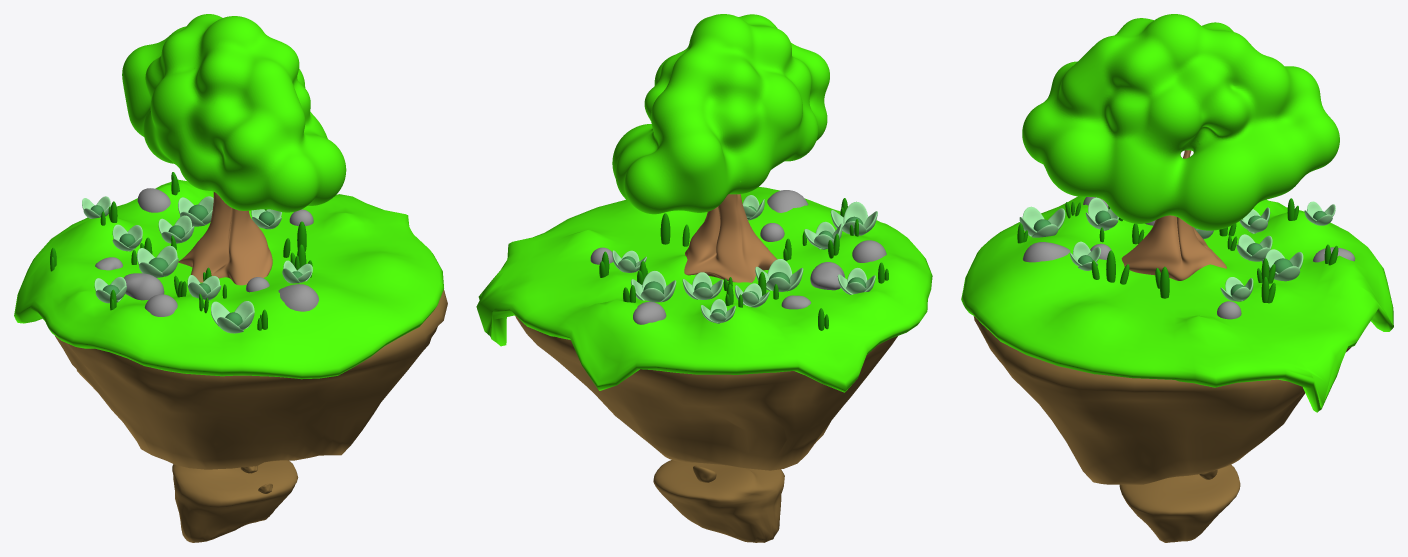
File: for website cloudy.glb
3 renders of one model, left to right at view 1: azimuth 30°, elevation 25°; view 2: azimuth 150°, elevation 25°; view 3: azimuth 270°, elevation 25°, orthographic.
Parts seen in each view (by area): view 1: platform, tree, Sphere.088, stone, grass; view 2: platform, tree, Sphere.088, stone, grass; view 3: platform, tree, Sphere.088, grass, stone.
Boxes of the visible parts, x1,y1,x2,y2 form: platform: (14,179,447,542); tree: (122,14,346,285); Sphere.088: (82,196,312,333); stone: (95,188,318,316); grass: (50,172,312,330); platform: (476,187,932,542); tree: (612,14,829,282); Sphere.088: (612,195,877,323); stone: (590,190,886,324); grass: (599,198,888,330); platform: (961,196,1393,542); tree: (1022,14,1339,280); Sphere.088: (1019,197,1335,301); grass: (1017,198,1338,303); stone: (1023,197,1355,319).
Bounding box in the file's own units: 16.73 × 21.46 × 16.13.
